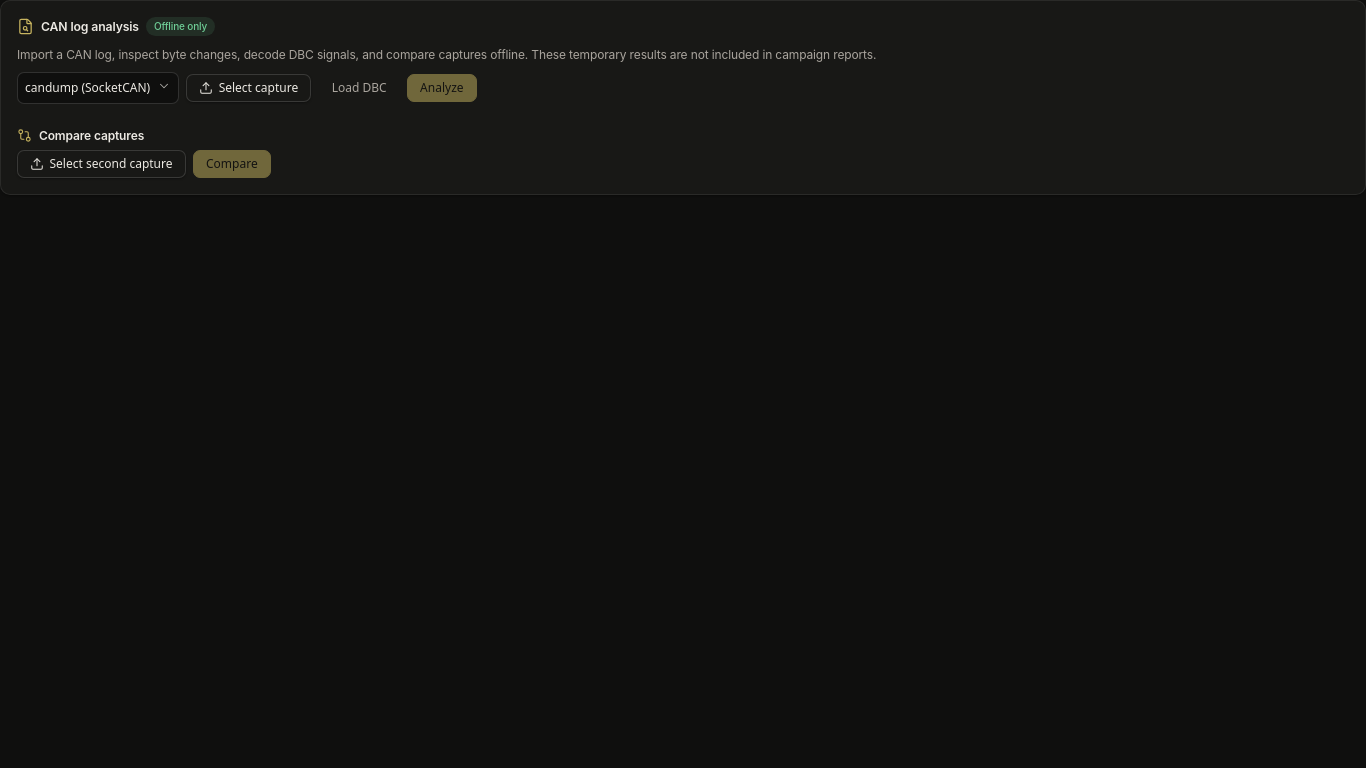
Test: clears decoded frames when the capture format changes
Click the button "Select capture" at (249, 88), box [186,74,311,102]
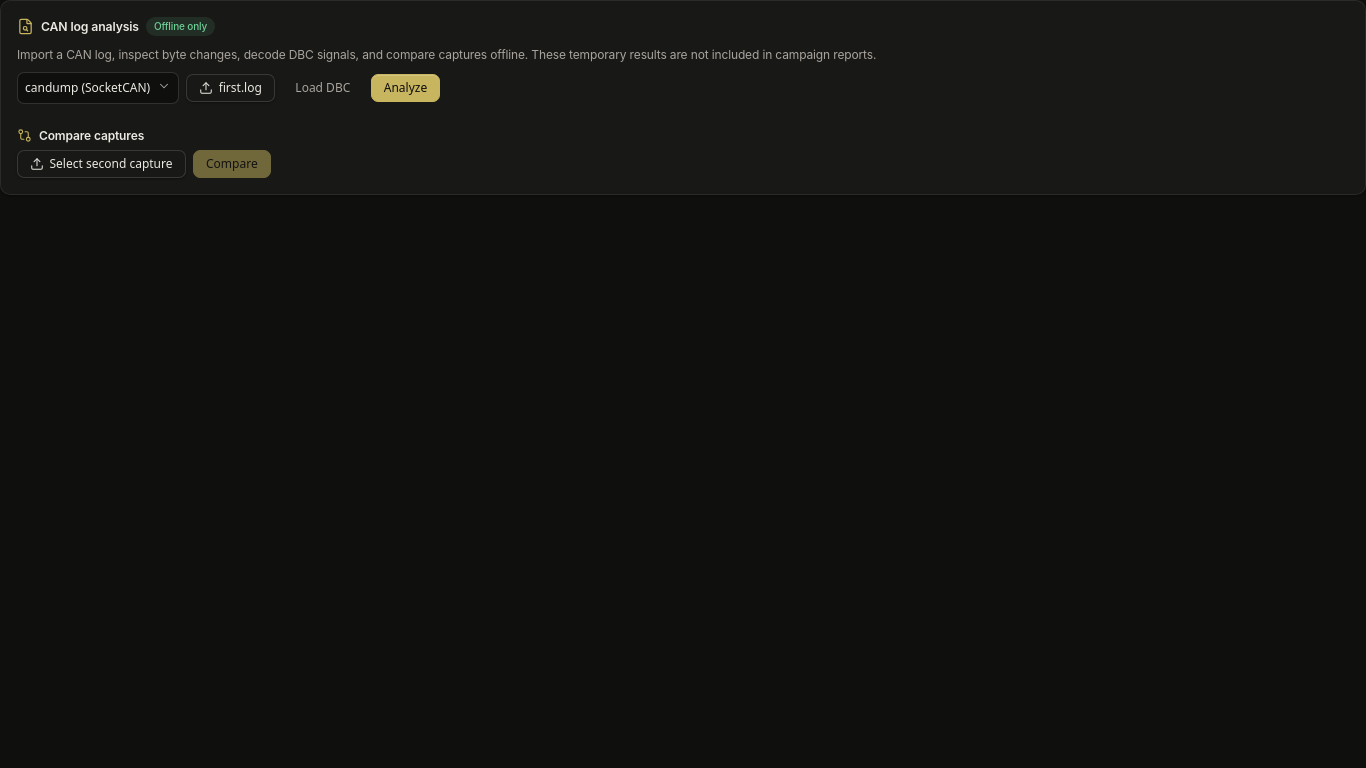
Click the button "Analyze" at (406, 88), box [370,74,440,102]
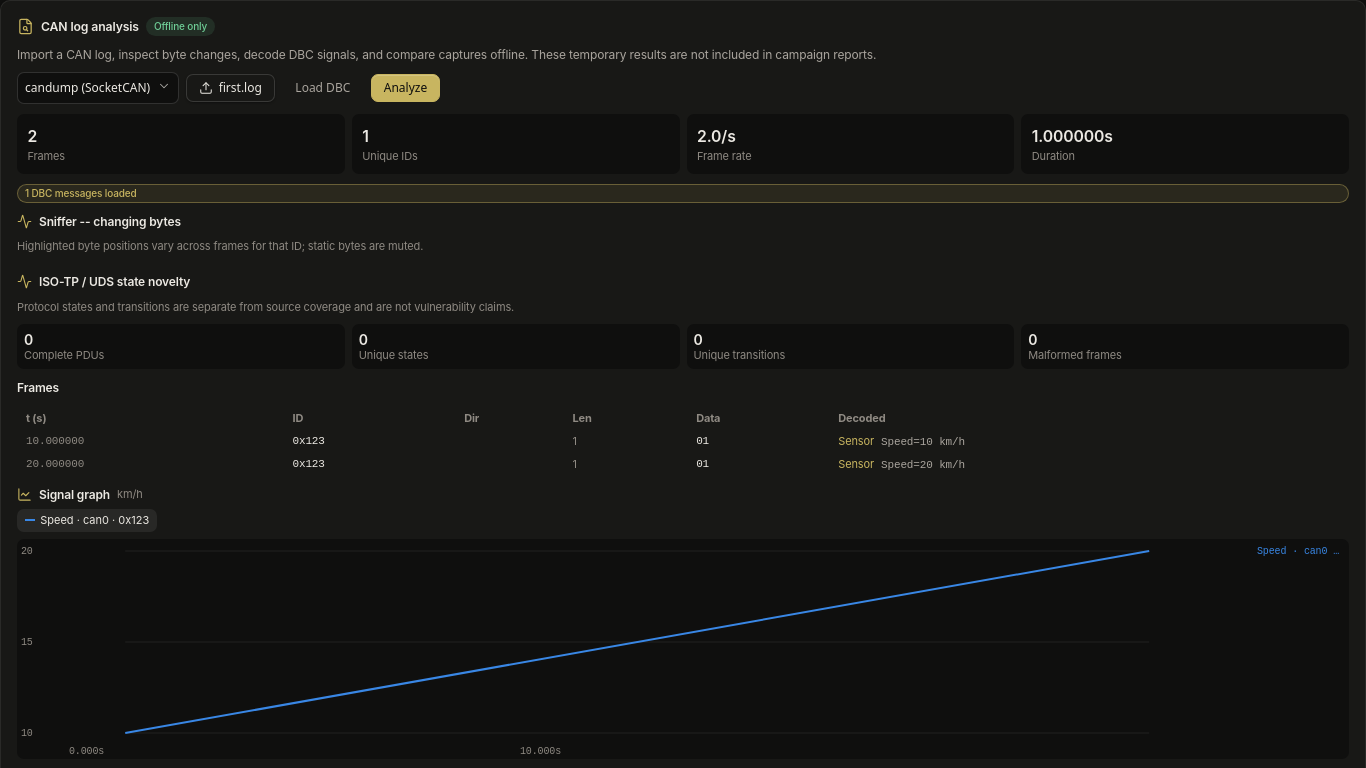
Now the table shows "Sensor", box [838,434,874,448]
Click the dropdown labelled "candump (SocketCAN)" at (98, 88), box [17,72,179,104]
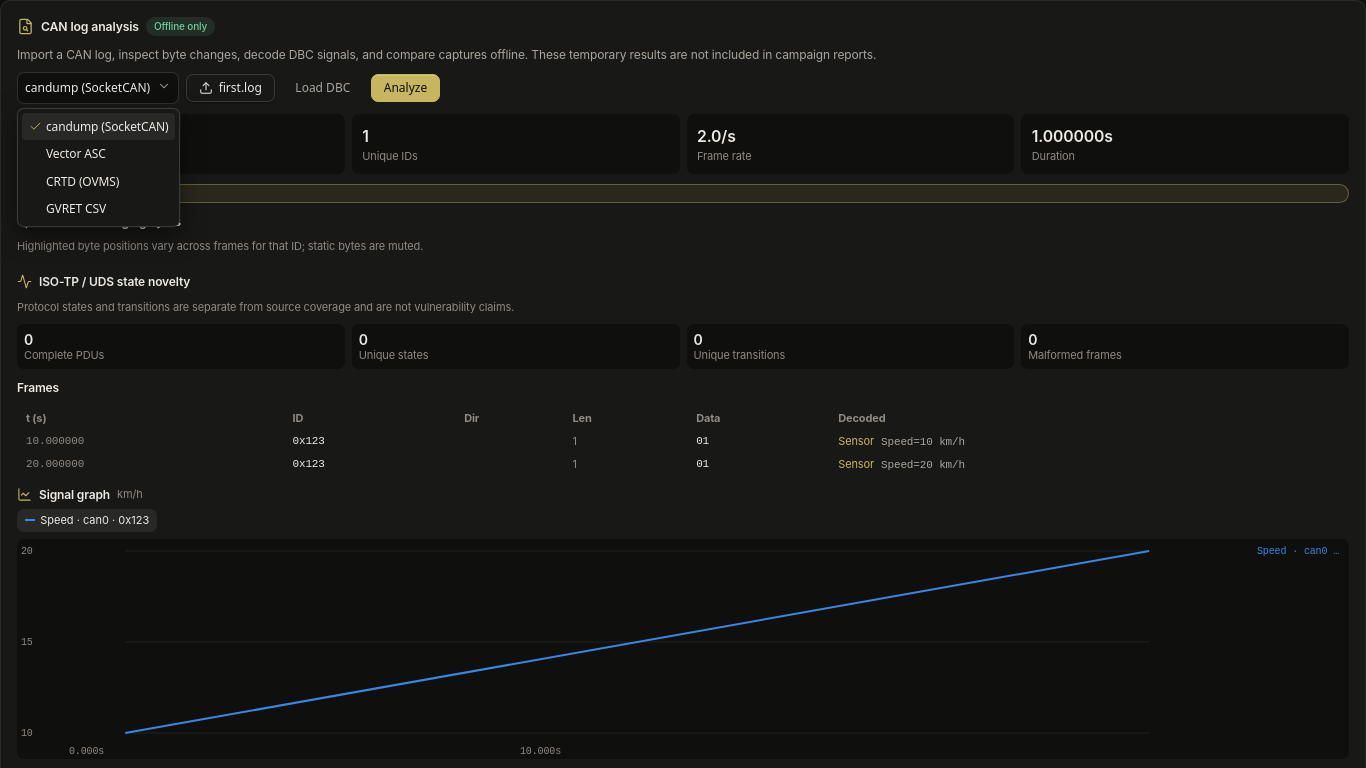
Click the option "Vector ASC" at (76, 154), box [46,145,106,162]
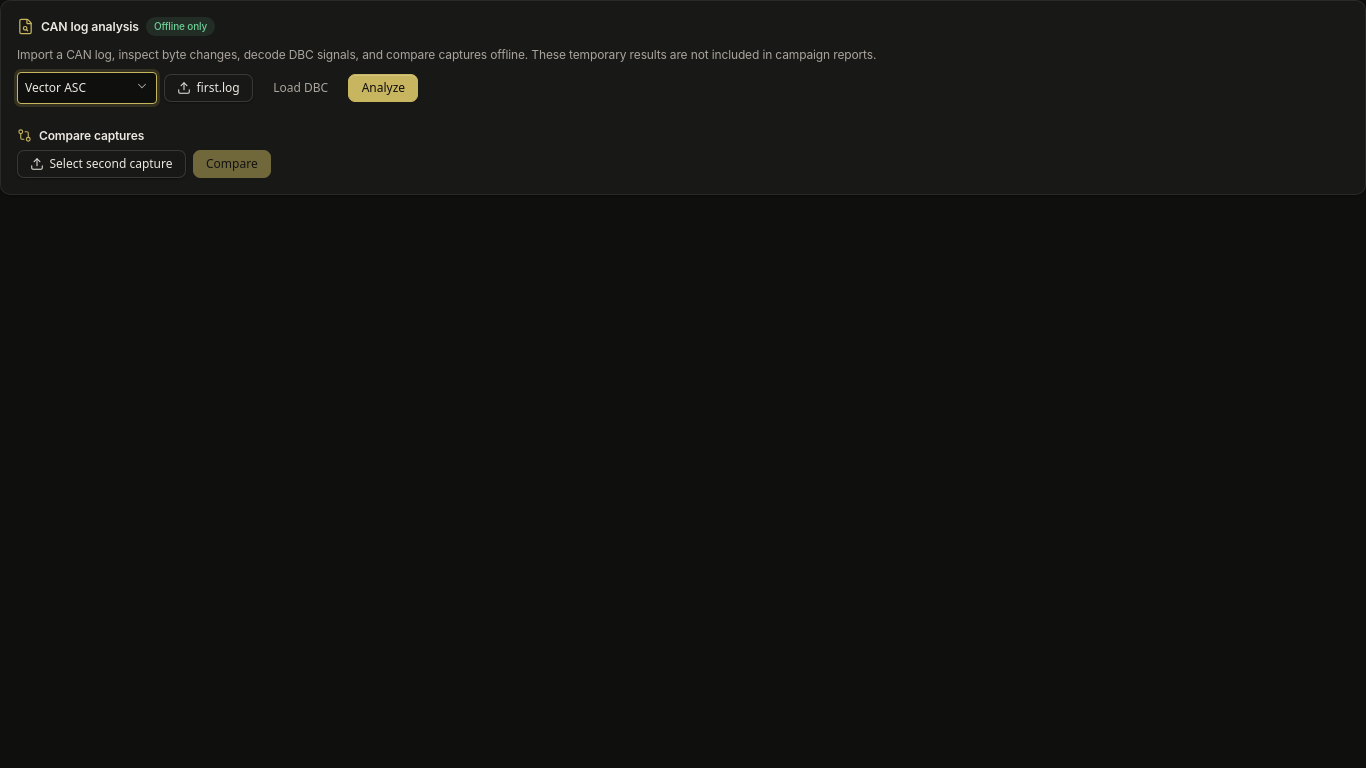
Now the table is gone
